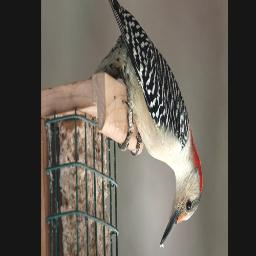Woodpecker: (94, 0, 204, 249)
